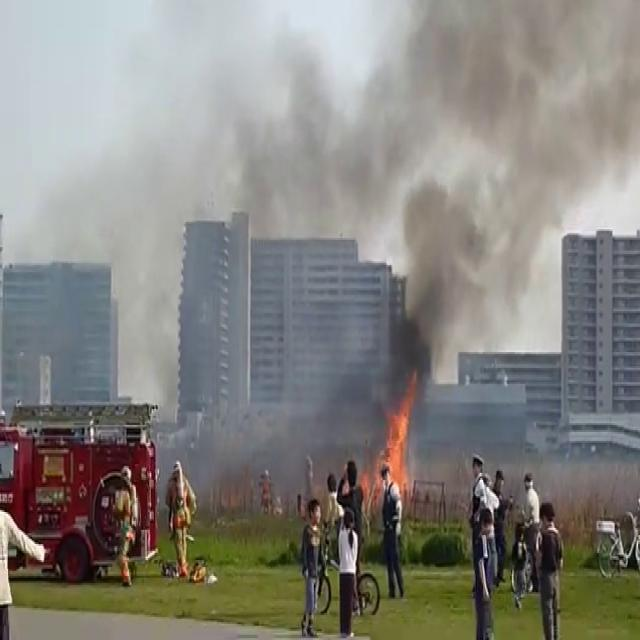Fire: (374, 381, 420, 502)
Smoke: (366, 0, 639, 373)
